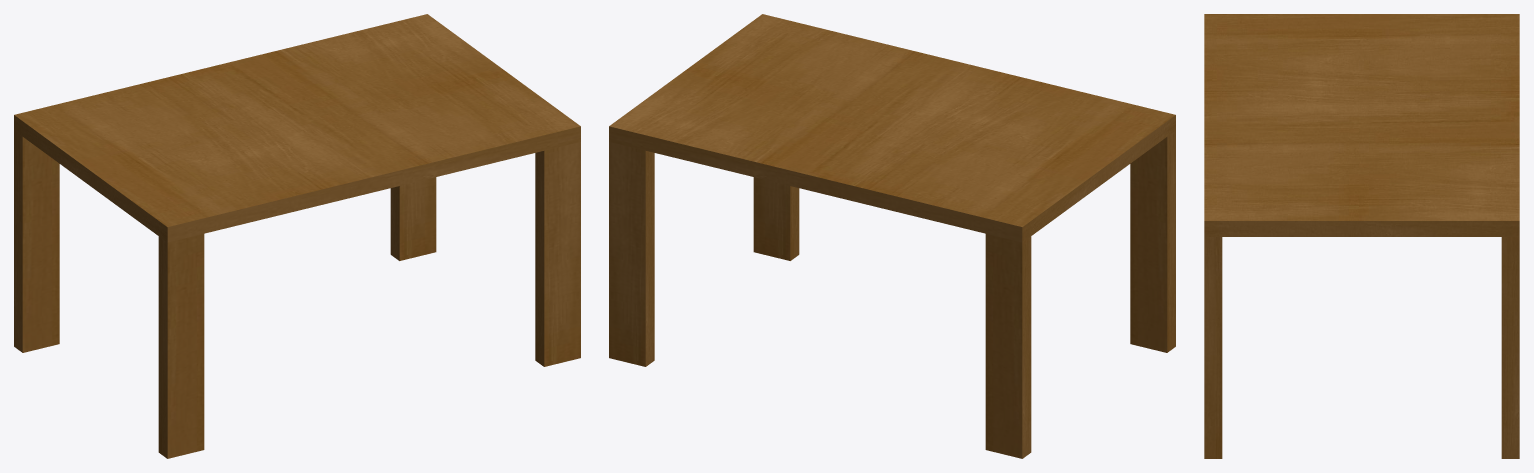
Rendered from sh_scopia_table4.glb.
3 views of the same model, side by side, from view 1: azimuth 30°, elevation 25°; view 2: azimuth 150°, elevation 25°; view 3: azimuth 270°, elevation 25° (orthographic). The views are drawn at different scales.
Size of the model in its own units: 1.4 by 0.75 by 0.9.
1 material, 1 textured.
